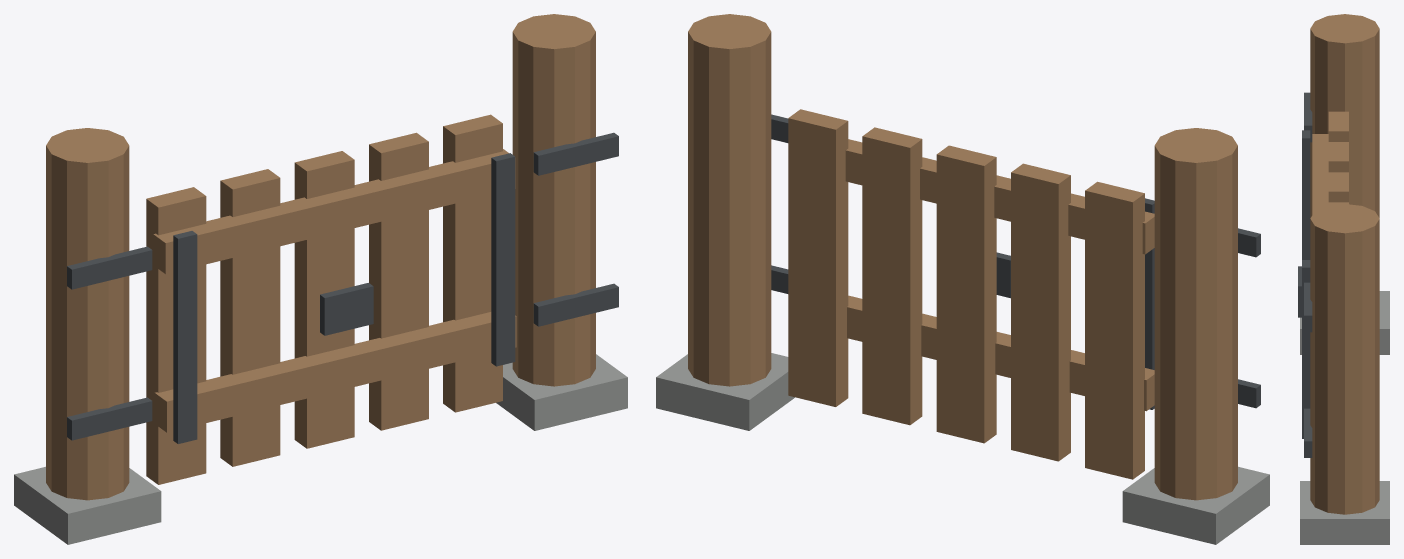
Rendered from SM_AET_Palisade_Gate_A01.fbx.
3 renders of one model, left to right at view 1: azimuth 30°, elevation 25°; view 2: azimuth 150°, elevation 25°; view 3: azimuth 270°, elevation 25°, orthographic. The views are drawn at different scales.
Visible parts, largest first — view 1: GatePost_Timber_-220, GatePost_Timber_220, GateBrace_Timber_Bottom, GateBrace_Timber_Top, GatePlank_Timber_-70, GatePlank_Timber_70, GatePlank_Timber_0, GatePlank_Timber_140, GatePlank_Timber_-140, StoneFooting_GateLeft, StoneFooting_GateRight, GateIronStrap_Left (+6 smaller); view 2: GatePost_Timber_220, GatePost_Timber_-220, GatePlank_Timber_0, GatePlank_Timber_70, GatePlank_Timber_140, GatePlank_Timber_-140, GatePlank_Timber_-70, StoneFooting_GateLeft, StoneFooting_GateRight, GateBrace_Timber_Top, GateBrace_Timber_Bottom, GateIronStrap_Left; view 3: GatePost_Timber_220, GatePost_Timber_-220, StoneFooting_GateRight, GateBrace_Timber_Top, GateIronStrap_Left, GateIronStrap_Right, StoneFooting_GateLeft, GatePlank_Timber_-140, GatePlank_Timber_-70, GatePlank_Timber_0, GatePost_IronBand_220_High, GatePost_IronBand_220_Low (+2 smaller).
Boxes of the visible parts, left/top/right/bottom form: GatePost_Timber_-220: left=46, top=128, right=129, bottom=500; GatePost_Timber_220: left=512, top=14, right=595, bottom=386; GateBrace_Timber_Bottom: left=154, top=312, right=516, bottom=432; GateBrace_Timber_Top: left=153, top=149, right=515, bottom=274; GatePlank_Timber_-70: left=220, top=169, right=280, bottom=466; GatePlank_Timber_70: left=369, top=132, right=428, bottom=430; GatePlank_Timber_0: left=294, top=151, right=354, bottom=448; GatePlank_Timber_140: left=443, top=114, right=502, bottom=412; GatePlank_Timber_-140: left=146, top=187, right=206, bottom=484; StoneFooting_GateLeft: left=14, top=466, right=161, bottom=544; StoneFooting_GateRight: left=496, top=354, right=627, bottom=430; GateIronStrap_Left: left=173, top=231, right=197, bottom=443; GatePost_Timber_220: left=688, top=14, right=771, bottom=386; GatePost_Timber_-220: left=1154, top=128, right=1237, bottom=500; GatePlank_Timber_0: left=936, top=145, right=996, bottom=443; GatePlank_Timber_70: left=862, top=127, right=922, bottom=425; GatePlank_Timber_140: left=788, top=109, right=848, bottom=406; GatePlank_Timber_-140: left=1085, top=181, right=1144, bottom=479; GatePlank_Timber_-70: left=1011, top=163, right=1070, bottom=461; StoneFooting_GateLeft: left=1122, top=466, right=1269, bottom=544; StoneFooting_GateRight: left=656, top=353, right=794, bottom=430; GateBrace_Timber_Top: left=845, top=139, right=1154, bottom=254; GateBrace_Timber_Bottom: left=847, top=295, right=1154, bottom=411; GateIronStrap_Left: left=1145, top=198, right=1154, bottom=409; GatePost_Timber_220: left=1310, top=204, right=1379, bottom=514; GatePost_Timber_-220: left=1310, top=14, right=1379, bottom=217; StoneFooting_GateRight: left=1300, top=481, right=1389, bottom=544; GateBrace_Timber_Top: left=1312, top=134, right=1328, bottom=214; GateIronStrap_Left: left=1302, top=130, right=1310, bottom=259; GateIronStrap_Right: left=1302, top=260, right=1310, bottom=438; StoneFooting_GateLeft: left=1300, top=291, right=1389, bottom=354; GatePlank_Timber_-140: left=1328, top=111, right=1348, bottom=141; GatePlank_Timber_-70: left=1328, top=142, right=1348, bottom=172; GatePlank_Timber_0: left=1328, top=172, right=1348, bottom=202; GatePost_IronBand_220_High: left=1304, top=282, right=1312, bottom=332; GatePost_IronBand_220_Low: left=1304, top=408, right=1312, bottom=457.
Size of what is drawn, in the model's own units: 9000 by 52800 by 33200.
